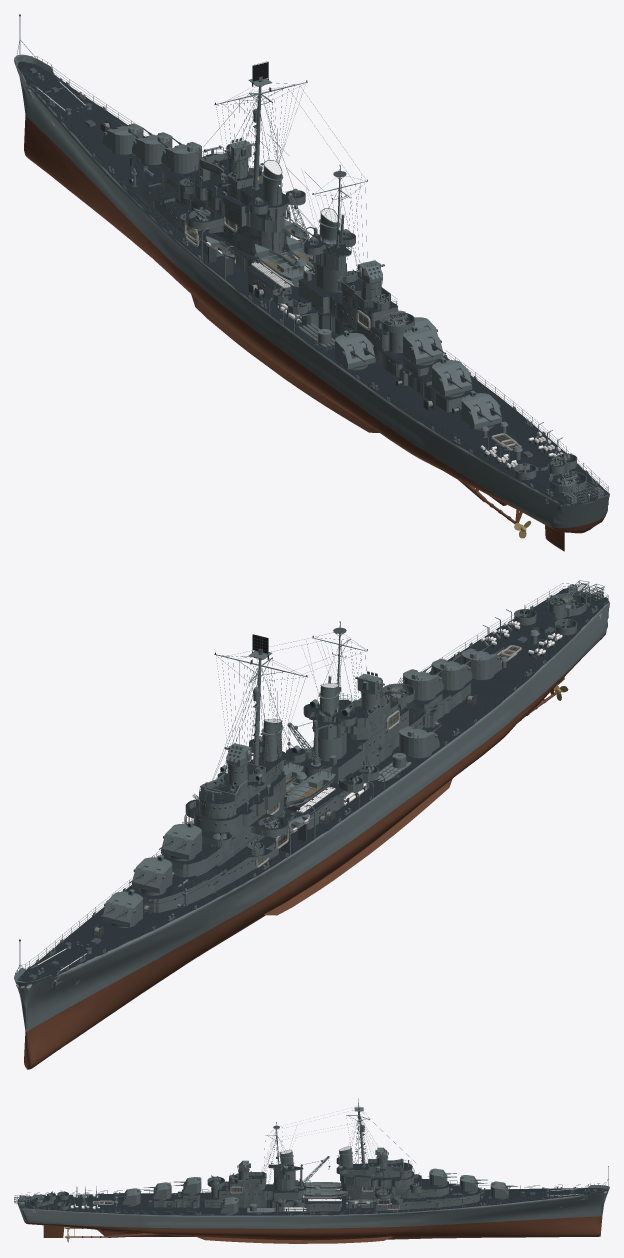
File: atlanta.glb
The picture shows the model from 3 angles, top to bottom: view 1: azimuth 30°, elevation 25°; view 2: azimuth 150°, elevation 25°; view 3: azimuth 270°, elevation 25°; orthographic projection. The views are drawn at different scales.
Visible parts, largest first — view 1: Blueprint lofted hull, bilge-keels.mesh, railings.mesh, midships-05.mesh, bridge-08.mesh, aerials.mesh, midships-01.mesh, main-8.yaw.mesh, main-4.yaw.mesh, main-7.yaw.mesh, main-6.yaw.mesh, platform-rails.mesh (+16 smaller); view 2: Blueprint lofted hull, midships-05.mesh, bilge-keels.mesh, bridge-08.mesh, railings.mesh, main-2.yaw.mesh, main-3.yaw.mesh, main-1.yaw.mesh, platform-rails.mesh, aerials.mesh, foremast.mesh, motor-launch-port.mesh (+19 smaller); view 3: Blueprint lofted hull, midships-05.mesh, bilge-keels.mesh, midships-01.mesh, railings.mesh, bridge-08.mesh, forward-deckhouse-01.mesh, forward-deckhouse-03.mesh, midships-02.mesh, platform-rails.mesh, life-rafts.mesh, forward-deckhouse-05.mesh (+28 smaller).
Boxes of the visible parts, x1,y1,x2,y2 form: Blueprint lofted hull: [17, 61, 609, 533]; bilge-keels.mesh: [191, 293, 379, 432]; railings.mesh: [14, 56, 608, 502]; midships-05.mesh: [298, 269, 388, 348]; bridge-08.mesh: [194, 170, 285, 232]; aerials.mesh: [216, 86, 367, 295]; midships-01.mesh: [248, 272, 402, 377]; main-8.yaw.mesh: [461, 390, 501, 429]; main-4.yaw.mesh: [335, 330, 375, 368]; main-7.yaw.mesh: [432, 357, 472, 396]; main-6.yaw.mesh: [403, 325, 443, 364]; platform-rails.mesh: [101, 129, 431, 374]; Blueprint lofted hull: [17, 591, 609, 1069]; midships-05.mesh: [298, 707, 408, 781]; bilge-keels.mesh: [264, 778, 452, 915]; bridge-08.mesh: [194, 771, 285, 832]; railings.mesh: [14, 583, 608, 981]; main-2.yaw.mesh: [132, 855, 172, 893]; main-3.yaw.mesh: [161, 821, 201, 859]; main-1.yaw.mesh: [102, 889, 142, 927]; platform-rails.mesh: [96, 690, 425, 935]; aerials.mesh: [216, 638, 372, 783]; foremast.mesh: [214, 650, 307, 765]; motor-launch-port.mesh: [286, 766, 335, 811]; Blueprint lofted hull: [17, 1187, 608, 1240]; midships-05.mesh: [217, 1182, 306, 1200]; bilge-keels.mesh: [196, 1236, 392, 1243]; midships-01.mesh: [203, 1197, 341, 1212]; railings.mesh: [20, 1183, 602, 1215]; bridge-08.mesh: [340, 1171, 413, 1187]; forward-deckhouse-01.mesh: [345, 1198, 479, 1210]; forward-deckhouse-03.mesh: [341, 1195, 479, 1206]; midships-02.mesh: [173, 1192, 341, 1204]; platform-rails.mesh: [177, 1157, 524, 1207]; life-rafts.mesh: [92, 1186, 399, 1210]; forward-deckhouse-05.mesh: [340, 1183, 481, 1199].
Bounding box in the file's own units: 16.36 × 42.34 × 166.
16 materials, 12 textured.
